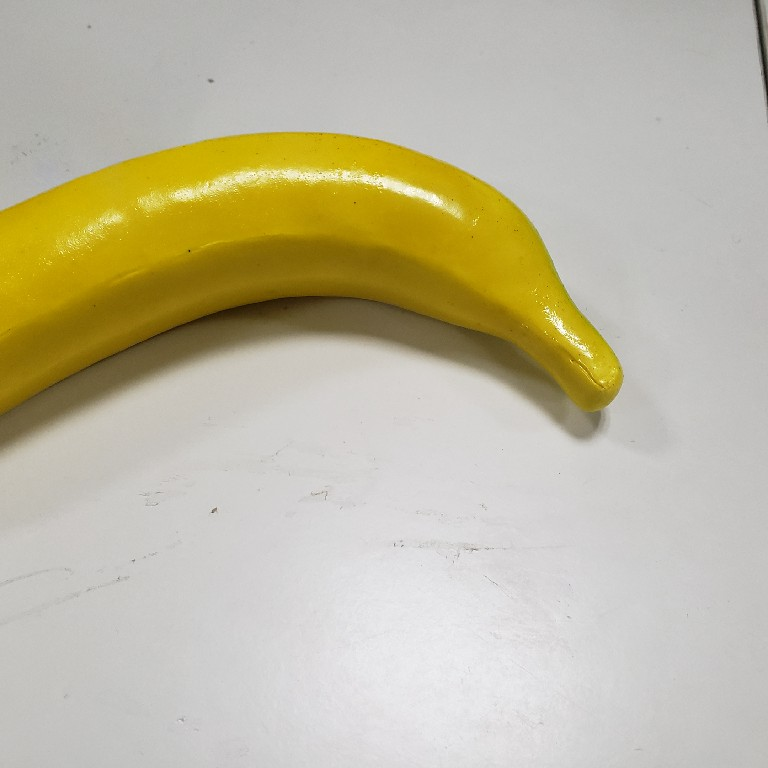fruit_banana: (1, 121, 629, 497)
